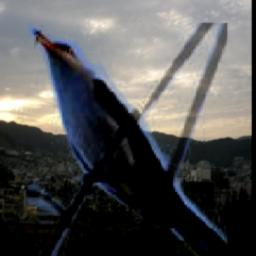Cuckoo: (28, 23, 227, 256)
